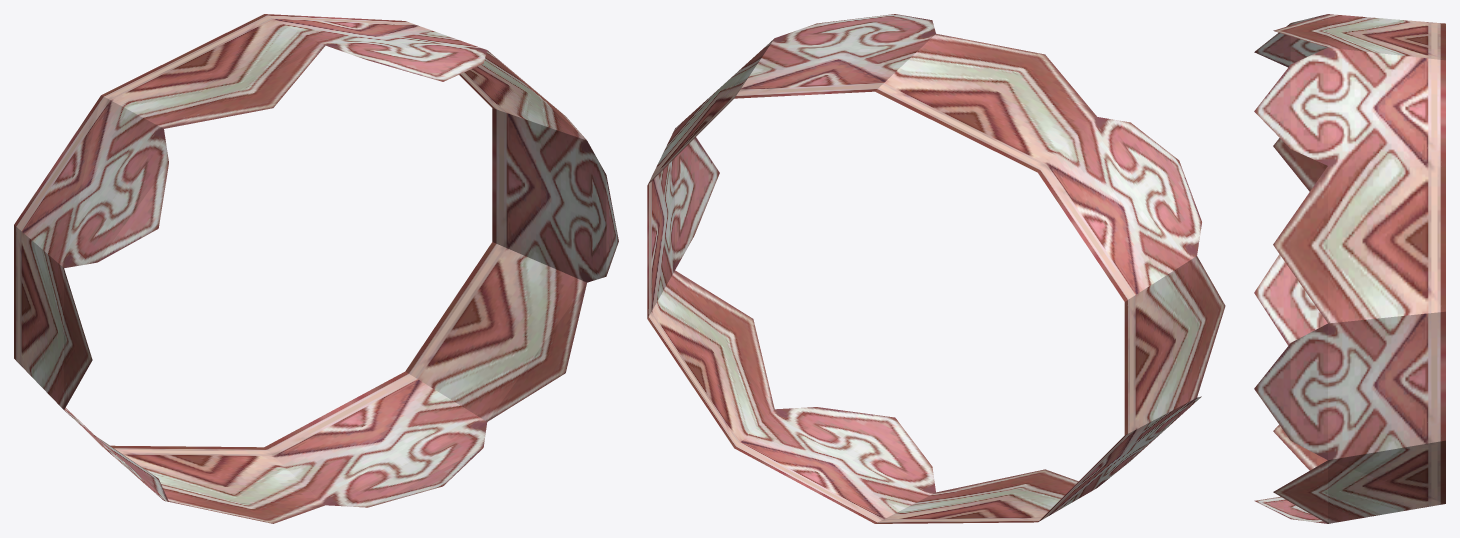
The model's file is common_helmet_59041.obj.
3 views of the same model, side by side, from view 1: azimuth 30°, elevation 25°; view 2: azimuth 150°, elevation 25°; view 3: azimuth 270°, elevation 25° (orthographic). The views are drawn at different scales.
Parts seen in each view (by area): view 1: common_helmet_male_59041; view 2: common_helmet_male_59041; view 3: common_helmet_male_59041.
Boxes of the visible parts, box(x1,y1,x2,y2) form: common_helmet_male_59041: box(14, 14, 618, 523); common_helmet_male_59041: box(647, 14, 1225, 523); common_helmet_male_59041: box(1254, 14, 1445, 523).
Size of the model in its own units: 4.96 by 4.16 by 1.64.
Materials: 1 (1 with a texture image).
